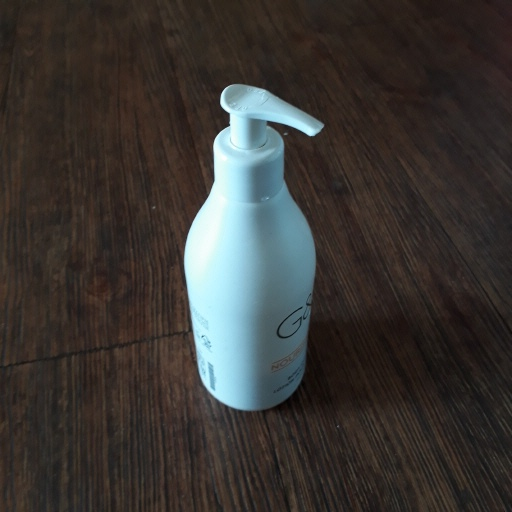Plastic_3: (179, 83, 330, 413)
